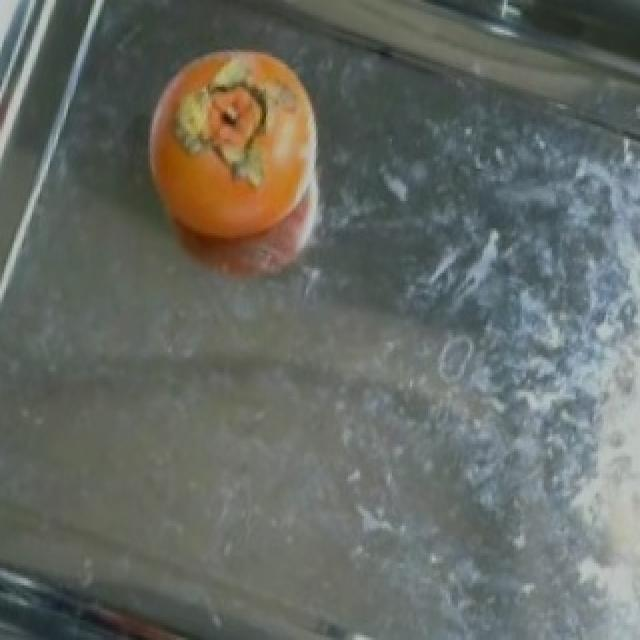Fruit: (116, 35, 346, 305)
